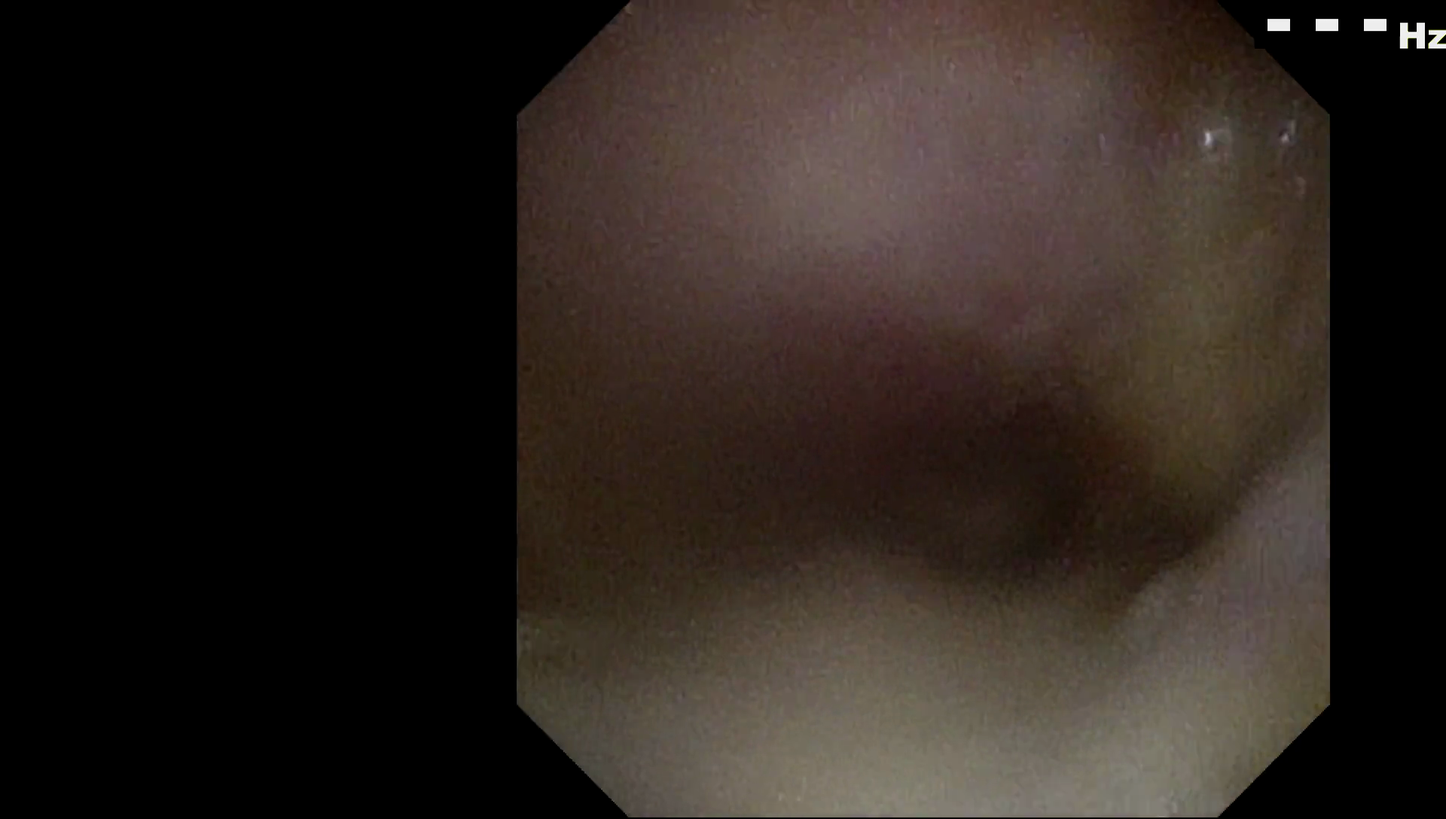next: (935, 339, 1154, 636)
